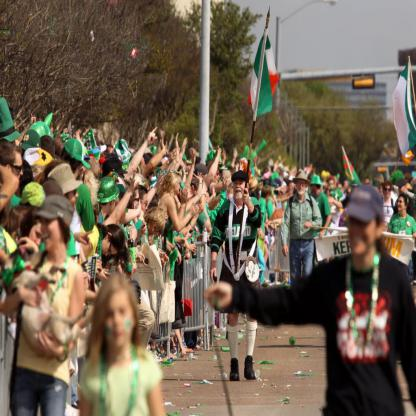face: (105, 295, 134, 351), (349, 214, 378, 257), (41, 214, 64, 250), (29, 222, 47, 254), (10, 154, 24, 187), (66, 185, 80, 206), (102, 239, 117, 257), (234, 181, 247, 199), (139, 194, 149, 215), (131, 191, 141, 210), (212, 168, 221, 186), (298, 180, 307, 195), (397, 197, 406, 211), (175, 180, 182, 195), (385, 187, 391, 199), (334, 177, 339, 190), (330, 180, 336, 190), (290, 184, 296, 194), (312, 185, 317, 195), (366, 181, 372, 189), (309, 164, 314, 172), (324, 179, 328, 189), (344, 182, 349, 189), (380, 187, 384, 195), (348, 189, 352, 197), (339, 185, 343, 193), (327, 190, 330, 197), (65, 128, 68, 134)
